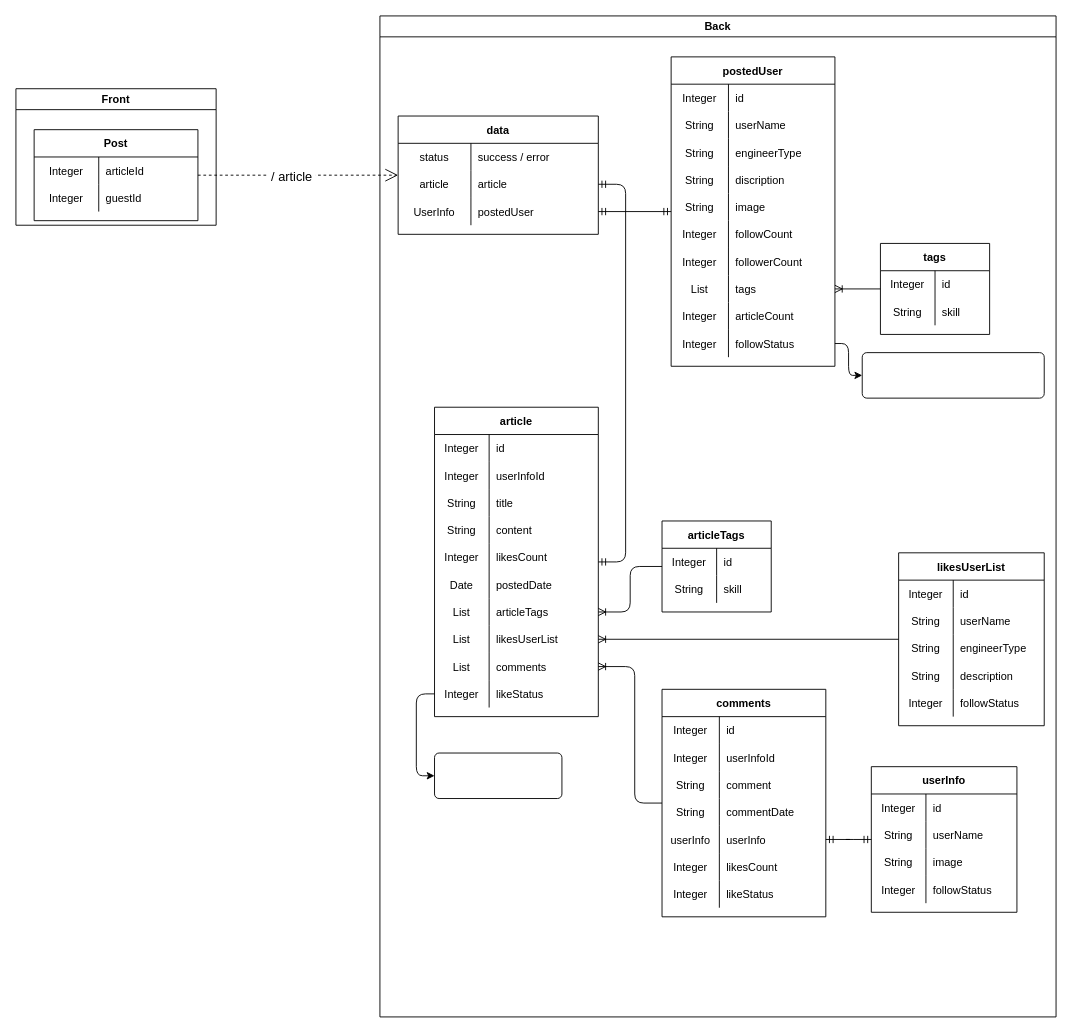
Image size: 1072x1033. Some labels were removed from this diagram. The shapes that lost their labels are listed below. From the top down, each one's centre as x and y in pixels, then its label:
At (952,375): "1ならフォロー済み ０ならフォロー未済".
At (498,775): "1ならLIKE済み ０ならLIKE未済".
